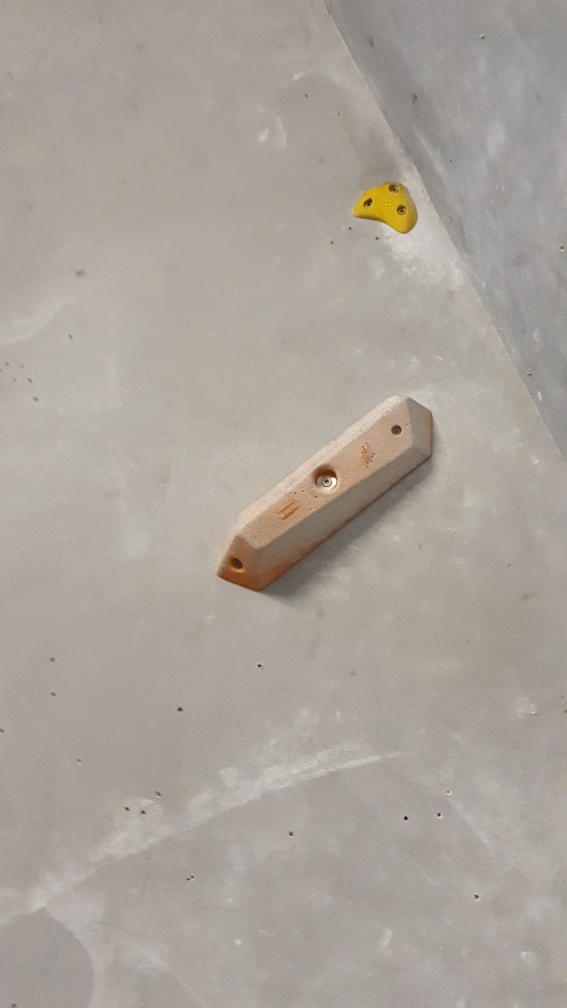Pinch: (209, 394, 441, 596)
